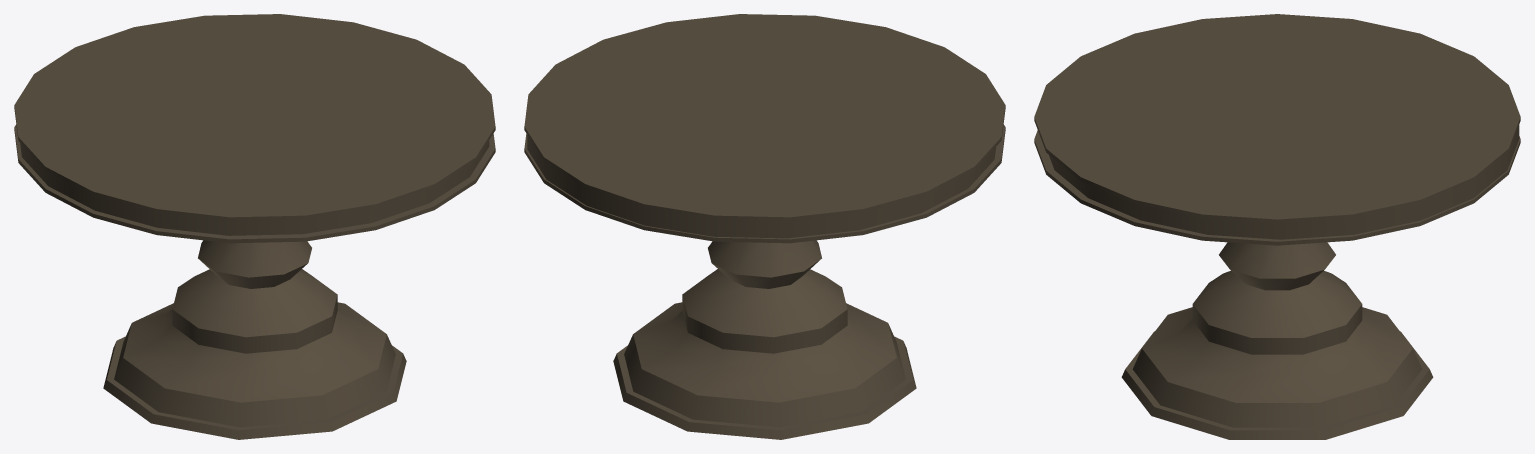
The model's file is Table_RoundSmall.glb.
3 renders of one model, left to right at view 1: azimuth 30°, elevation 25°; view 2: azimuth 150°, elevation 25°; view 3: azimuth 270°, elevation 25°, orthographic.
Visible parts, largest first — view 1: Table_RoundSmall; view 2: Table_RoundSmall; view 3: Table_RoundSmall.
Boxes of the visible parts, <box> form: Table_RoundSmall: <box>14,14,495,439</box>; Table_RoundSmall: <box>524,14,1005,439</box>; Table_RoundSmall: <box>1034,14,1520,439</box>.
Bounding box in the file's own units: 0.9491 × 0.561 × 0.9491.
Materials: 1 (1 with a texture image).
